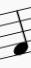F: (12, 8, 28, 58)
